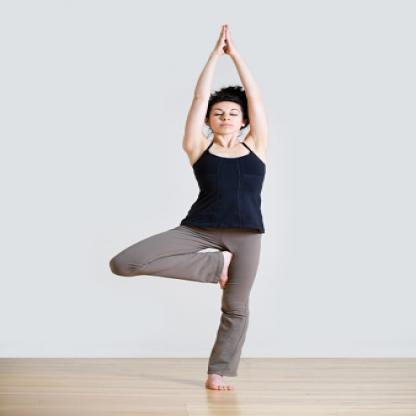tree: (96, 19, 284, 398)
